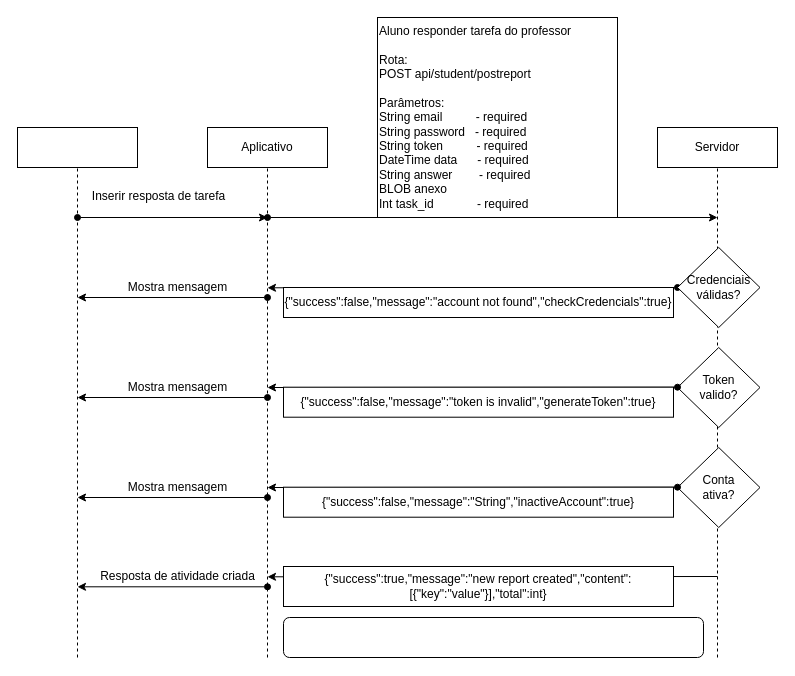
Image size: 795x676. Some labels were removed from this diagram. Here are the shapes that lost their labels. From the top down, the box of each, then its label:
(16, 126, 138, 168): Usuário
(282, 616, 704, 658): Exemplo de DateTime em "data": "2022-10-02 01:01:01"
